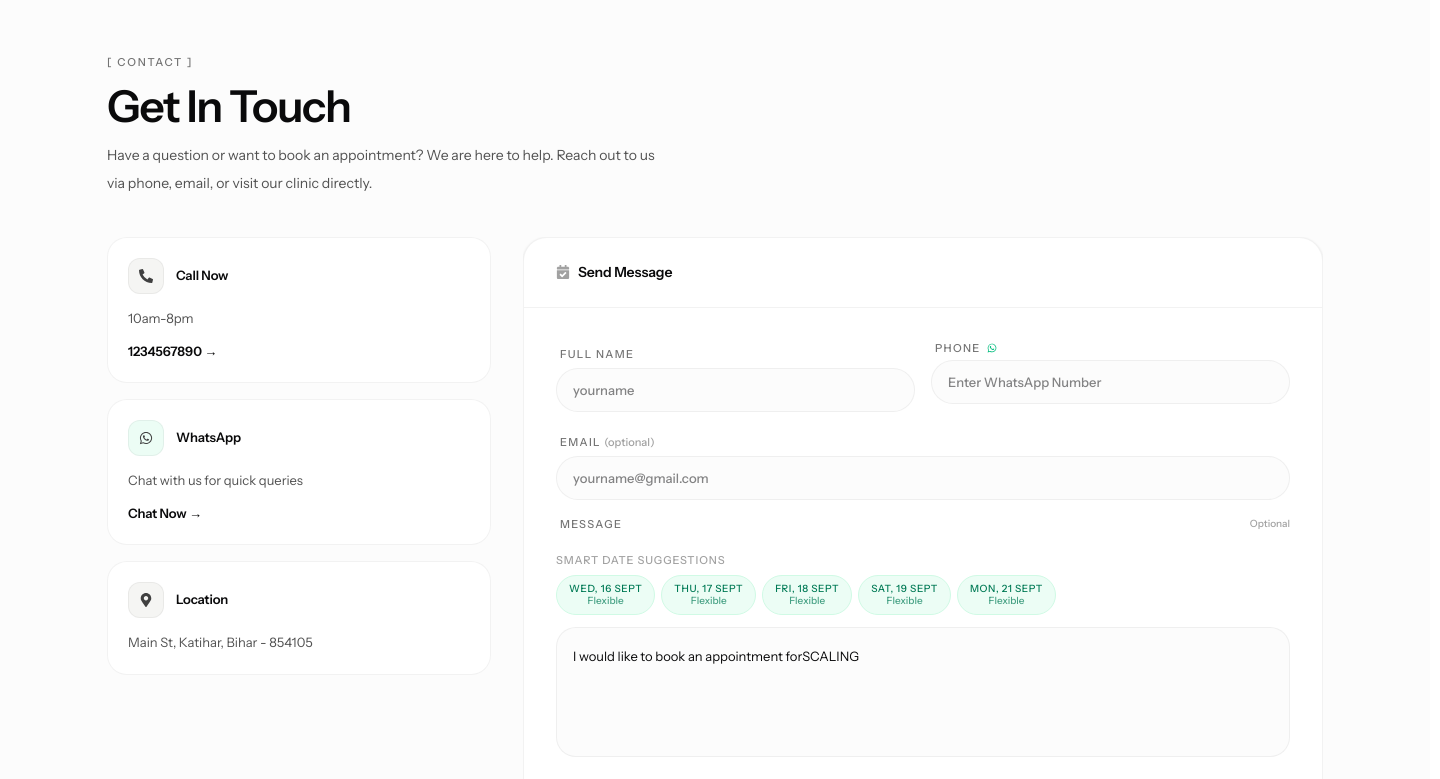
Test: Contact Page Component › validates phone number length (10 digits)
The image size is (1440, 779).
Enter 5 digits
Type "12345" into the field with placeholder "Enter WhatsApp Number" at (1110, 382), box [931,360,1290,404]
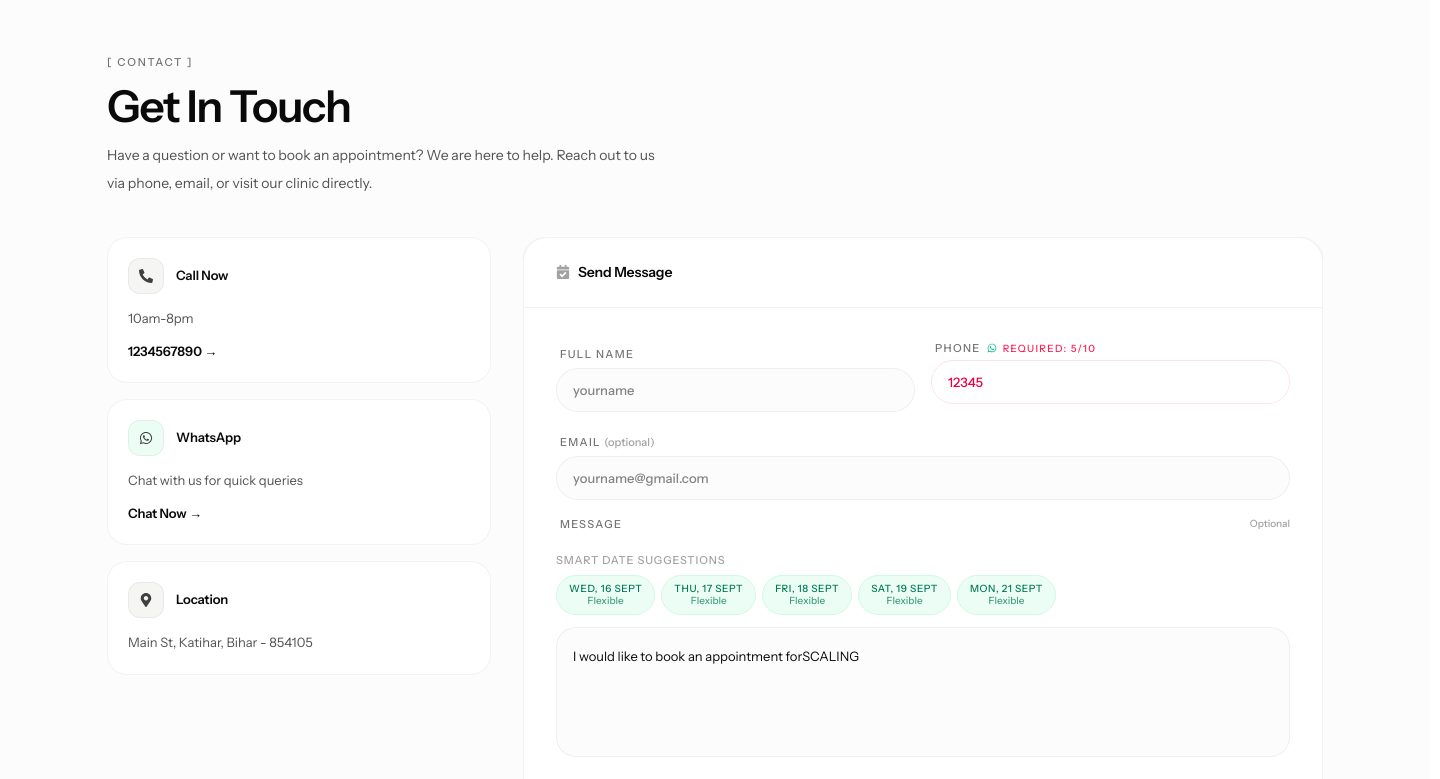
Check: the text "Required: 5/10" is shown, box [1003,341,1096,356]
Enter 10 digits
Replace the text in the field with placeholder "Enter WhatsApp Number" with "1234567890" at (1110, 382), box [931,360,1290,404]
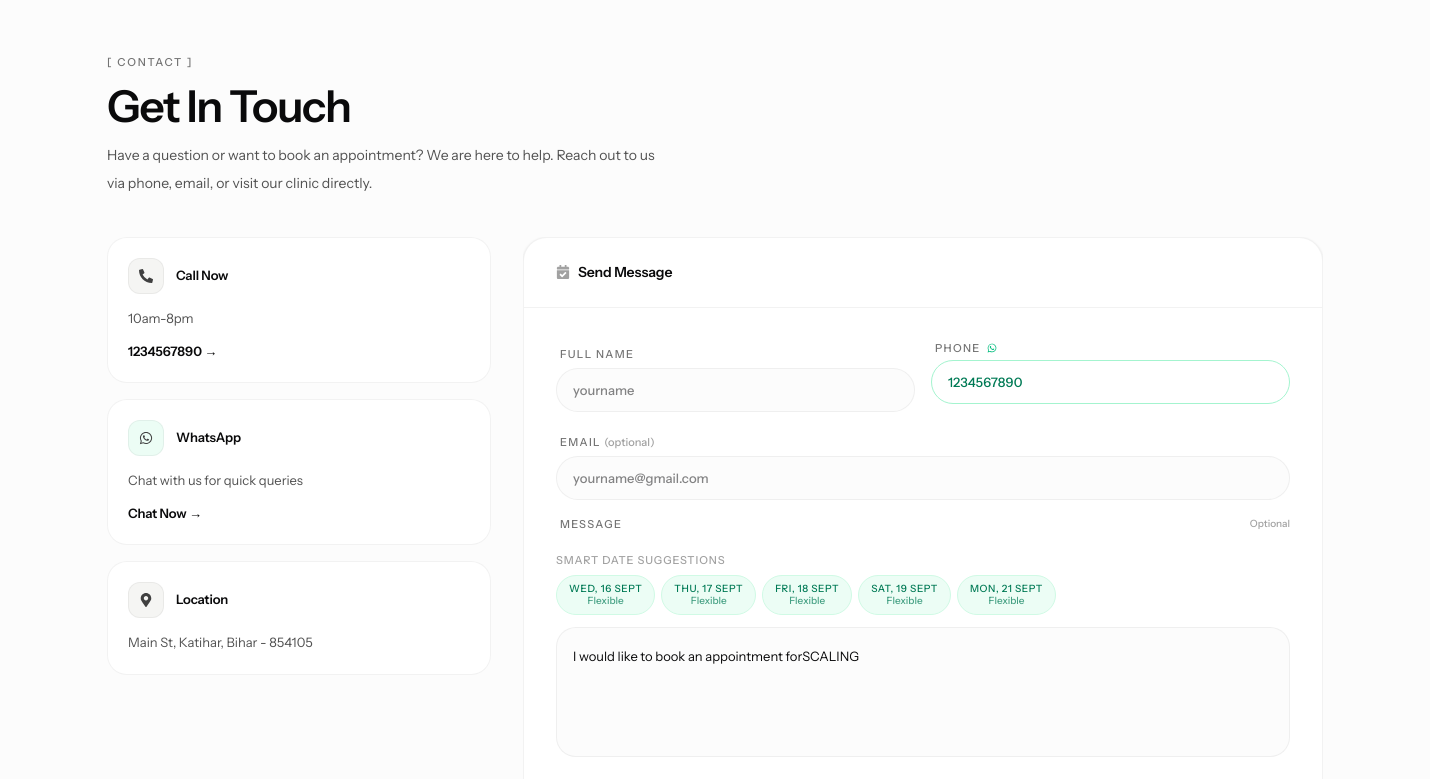
Check: the text "Required:" is gone
